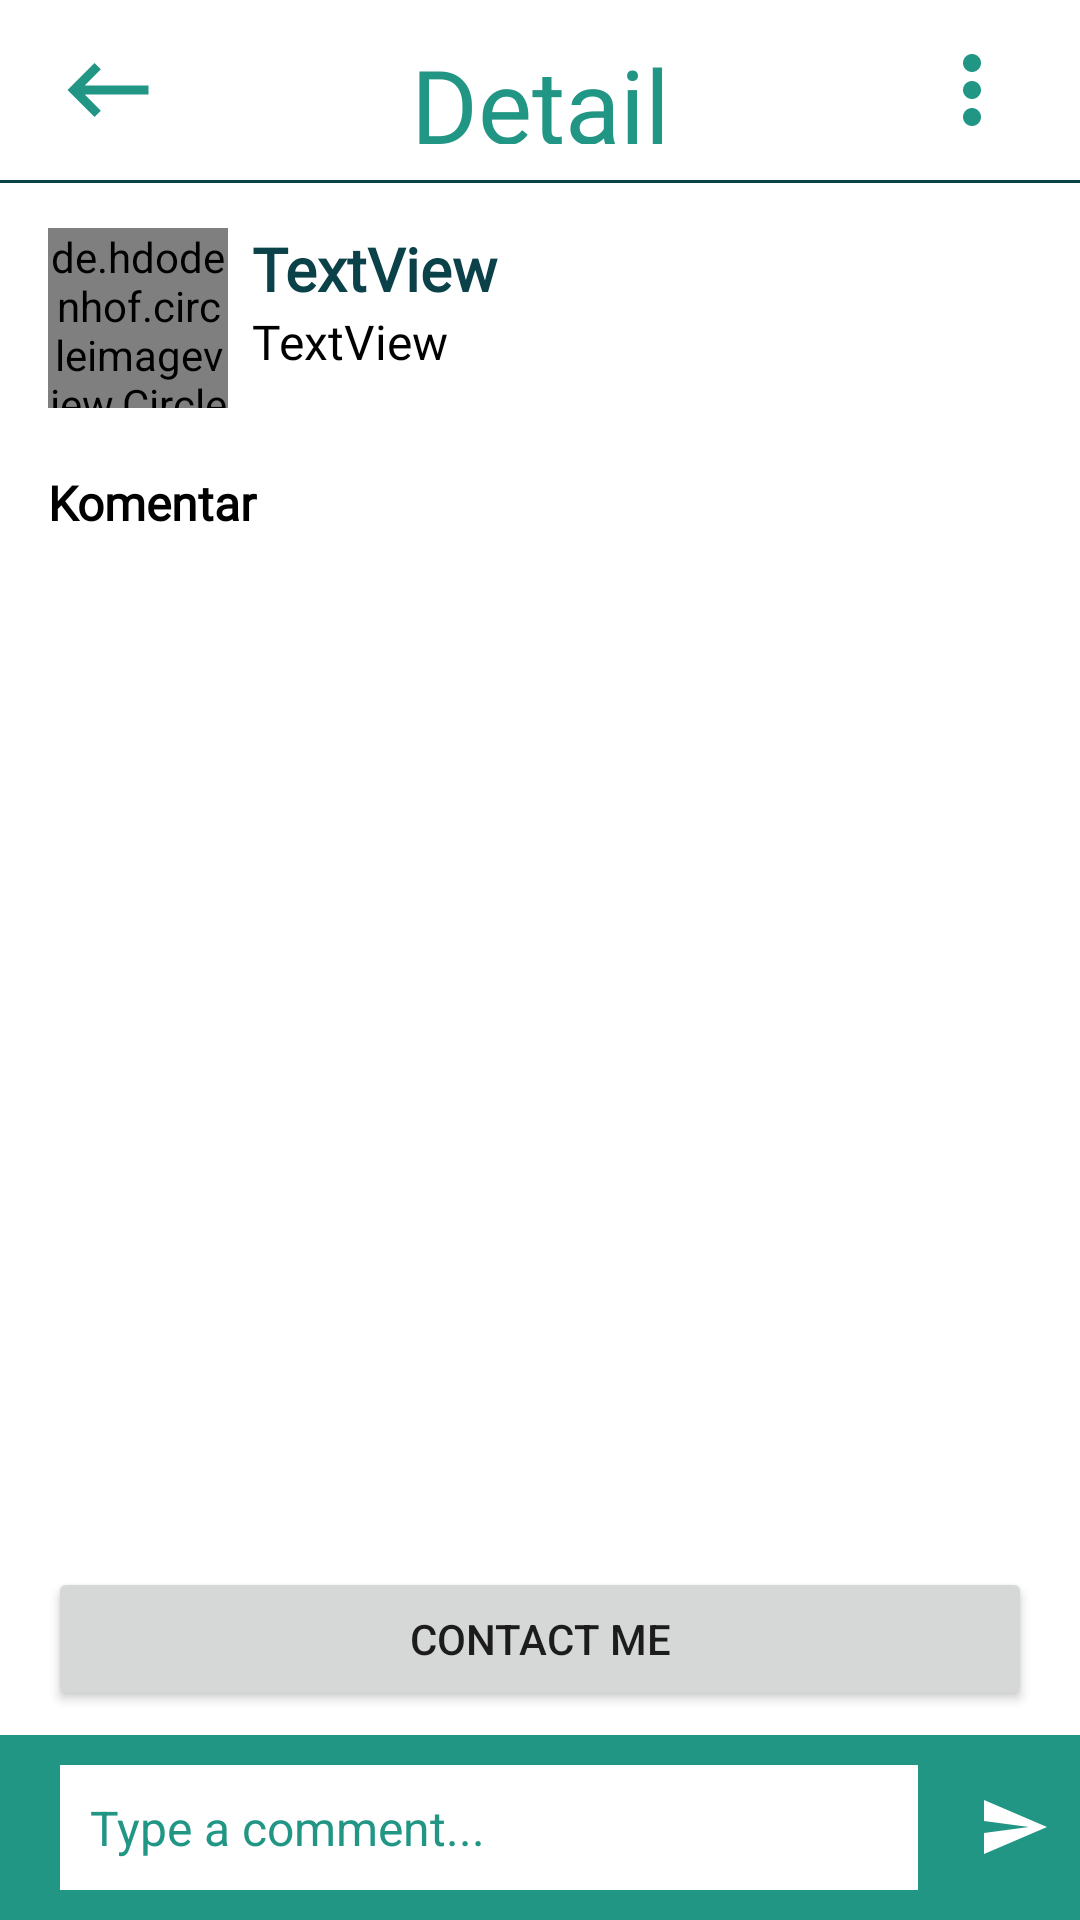

Screen size 1080px×1920px. Icon name, then its box in pixels as (x1,y1,x2,y2):
back: (67,63,149,117)
more vert: (963,54,981,126)
send: (984,1800,1047,1854)
